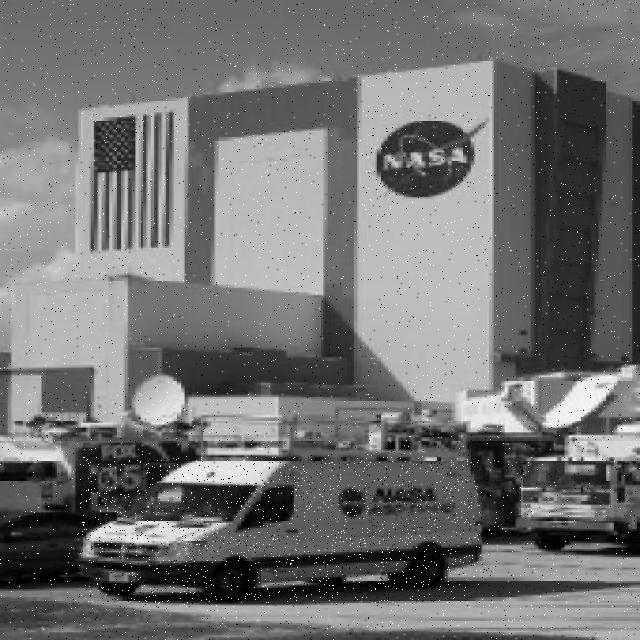Van: (78, 457, 483, 604)
